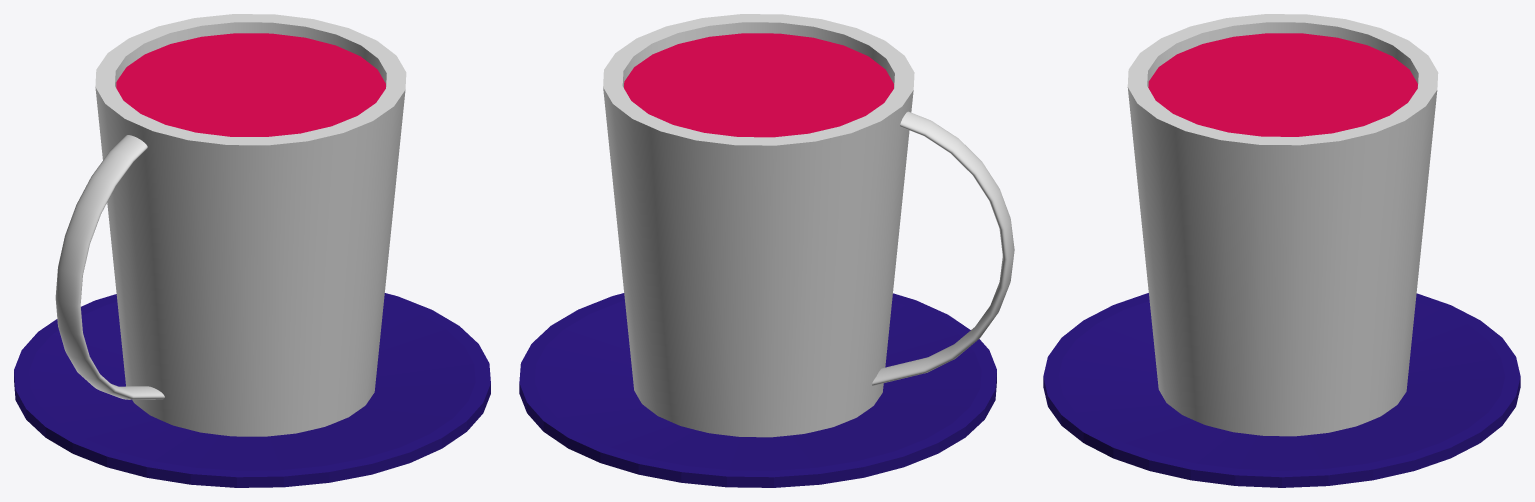
The model's file is Jus jambu.fbx.
The picture shows the model from 3 angles, left to right: view 1: azimuth 30°, elevation 25°; view 2: azimuth 150°, elevation 25°; view 3: azimuth 270°, elevation 25°; orthographic projection.
Parts seen in each view (by area): view 1: Jus Jambu, Cylinder, Cylinder.001; view 2: Jus Jambu, Cylinder, Cylinder.001; view 3: Jus Jambu, Cylinder, Cylinder.001.
Boxes of the visible parts, bbox=[...] form: Jus Jambu: bbox=[55, 14, 406, 436]; Cylinder: bbox=[14, 293, 490, 487]; Cylinder.001: bbox=[116, 33, 385, 136]; Jus Jambu: bbox=[603, 14, 1014, 437]; Cylinder: bbox=[519, 293, 996, 487]; Cylinder.001: bbox=[624, 33, 893, 137]; Jus Jambu: bbox=[1127, 14, 1438, 436]; Cylinder: bbox=[1043, 293, 1520, 487]; Cylinder.001: bbox=[1148, 33, 1417, 136].
Size of the model in its own units: 5812 by 4047 by 5589.
